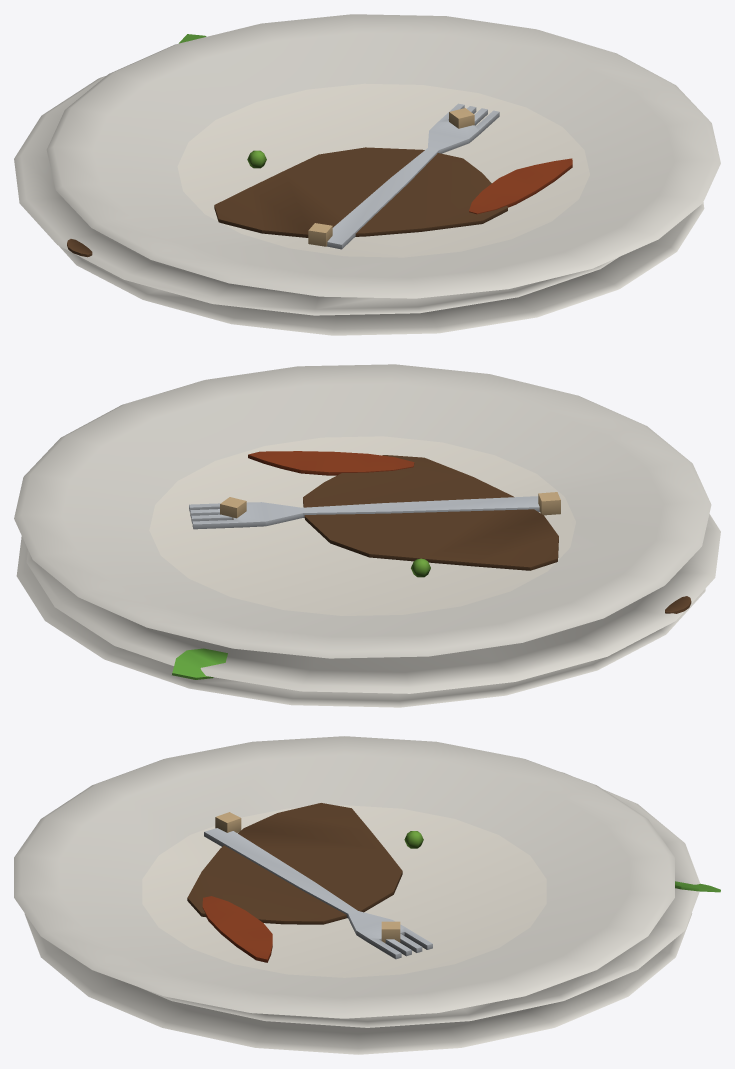
Rendered from plateStackDirty.glb.
3 views of the same model, one above another, from view 1: azimuth 30°, elevation 25°; view 2: azimuth 150°, elevation 25°; view 3: azimuth 270°, elevation 25° (orthographic). The views are drawn at different scales.
Parts seen in each view (by area): view 1: plateStackDirty; view 2: plateStackDirty; view 3: plateStackDirty.
Part boxes in pixels (x1,y1,x2,y2): plateStackDirty: [14, 14, 720, 335]; plateStackDirty: [14, 364, 720, 707]; plateStackDirty: [14, 736, 720, 1054].
Bounding box in the file's own units: 0.2986 × 0.0362 × 0.3045.
